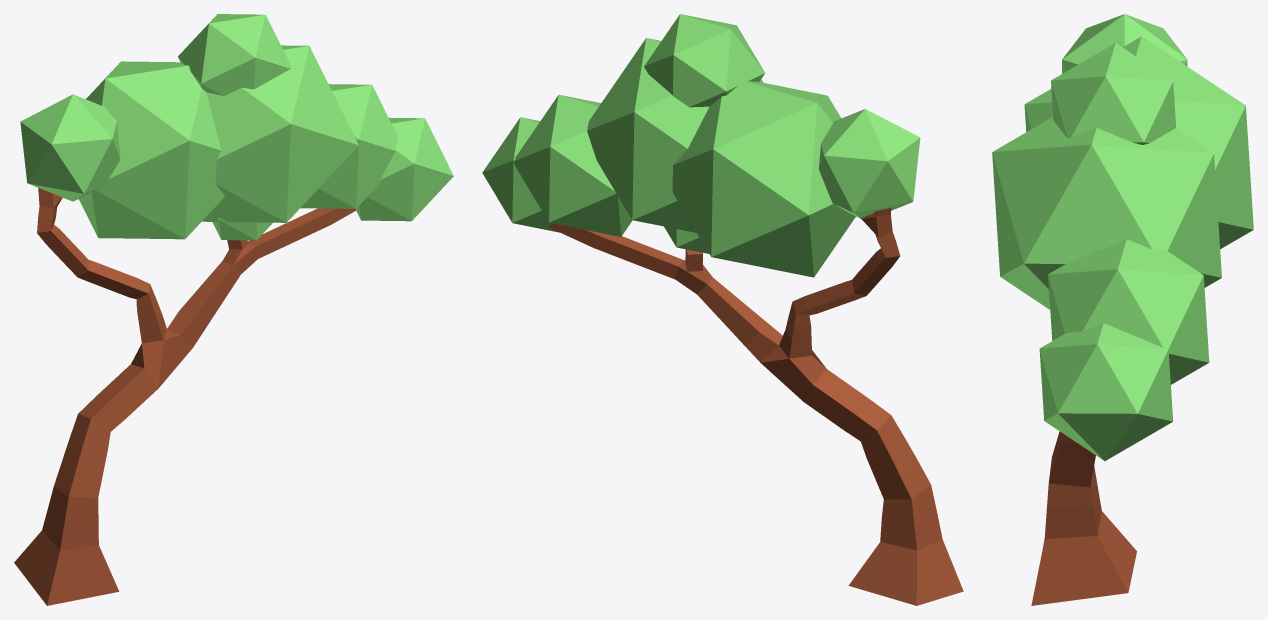
The model's file is Tree2.fbx.
3 renders of one model, left to right at view 1: azimuth 30°, elevation 25°; view 2: azimuth 150°, elevation 25°; view 3: azimuth 270°, elevation 25°, orthographic. The views are drawn at different scales.
Visible parts, largest first — view 1: Icosphere, Cube; view 2: Icosphere, Cube; view 3: Icosphere, Cube.
Boxes of the visible parts, x1=… form: Icosphere: x1=20, y1=14, x2=453, y2=240; Cube: x1=14, y1=188, x2=355, y2=605; Icosphere: x1=482, y1=14, x2=920, y2=277; Cube: x1=548, y1=208, x2=963, y2=605; Icosphere: x1=992, y1=14, x2=1253, y2=460; Cube: x1=1031, y1=431, x2=1136, y2=605.
Bounding box in the file's own units: 1029 × 1197 × 445.
